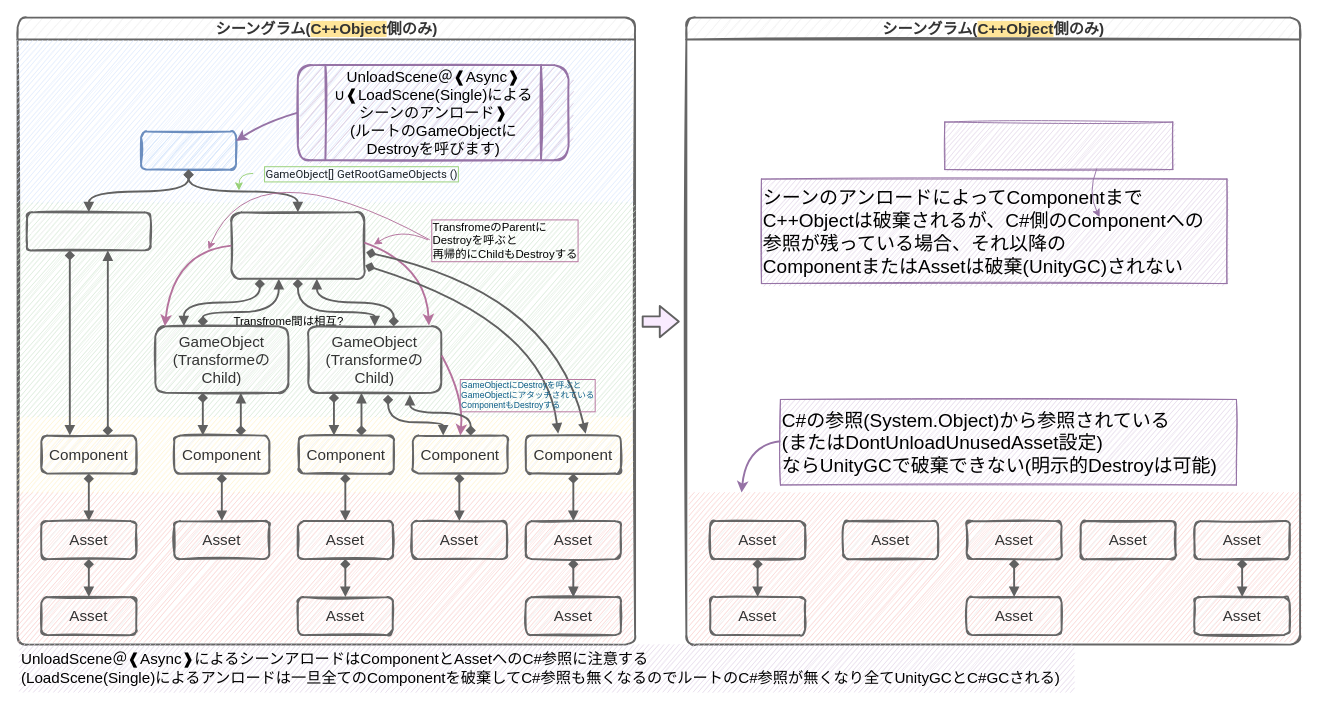
Image size: 1317x708. Some labels were removed from this diagram. Each missing label, with the centre of its shape:
"(GameObjectとCompnentは 元々C#参照で繋がっていない)" goes at (x=1058, y=145).
"GameObject" goes at (x=88, y=231).
"GameObject (Transfromeの Parent)" goes at (x=297, y=245).
"Scene" goes at (x=188, y=150).
